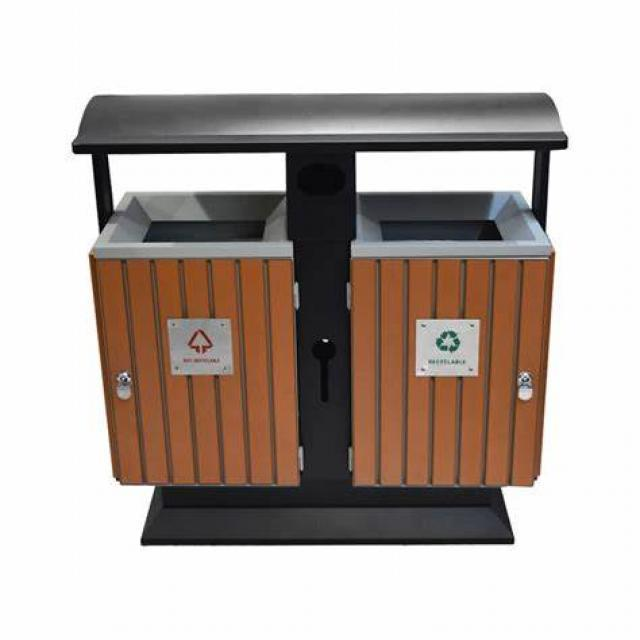garbage container: (52, 72, 584, 582)
